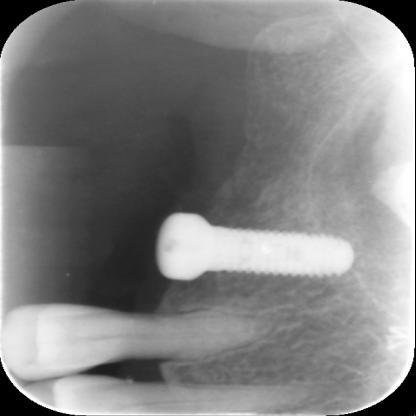Bego: (205, 219, 359, 280)
